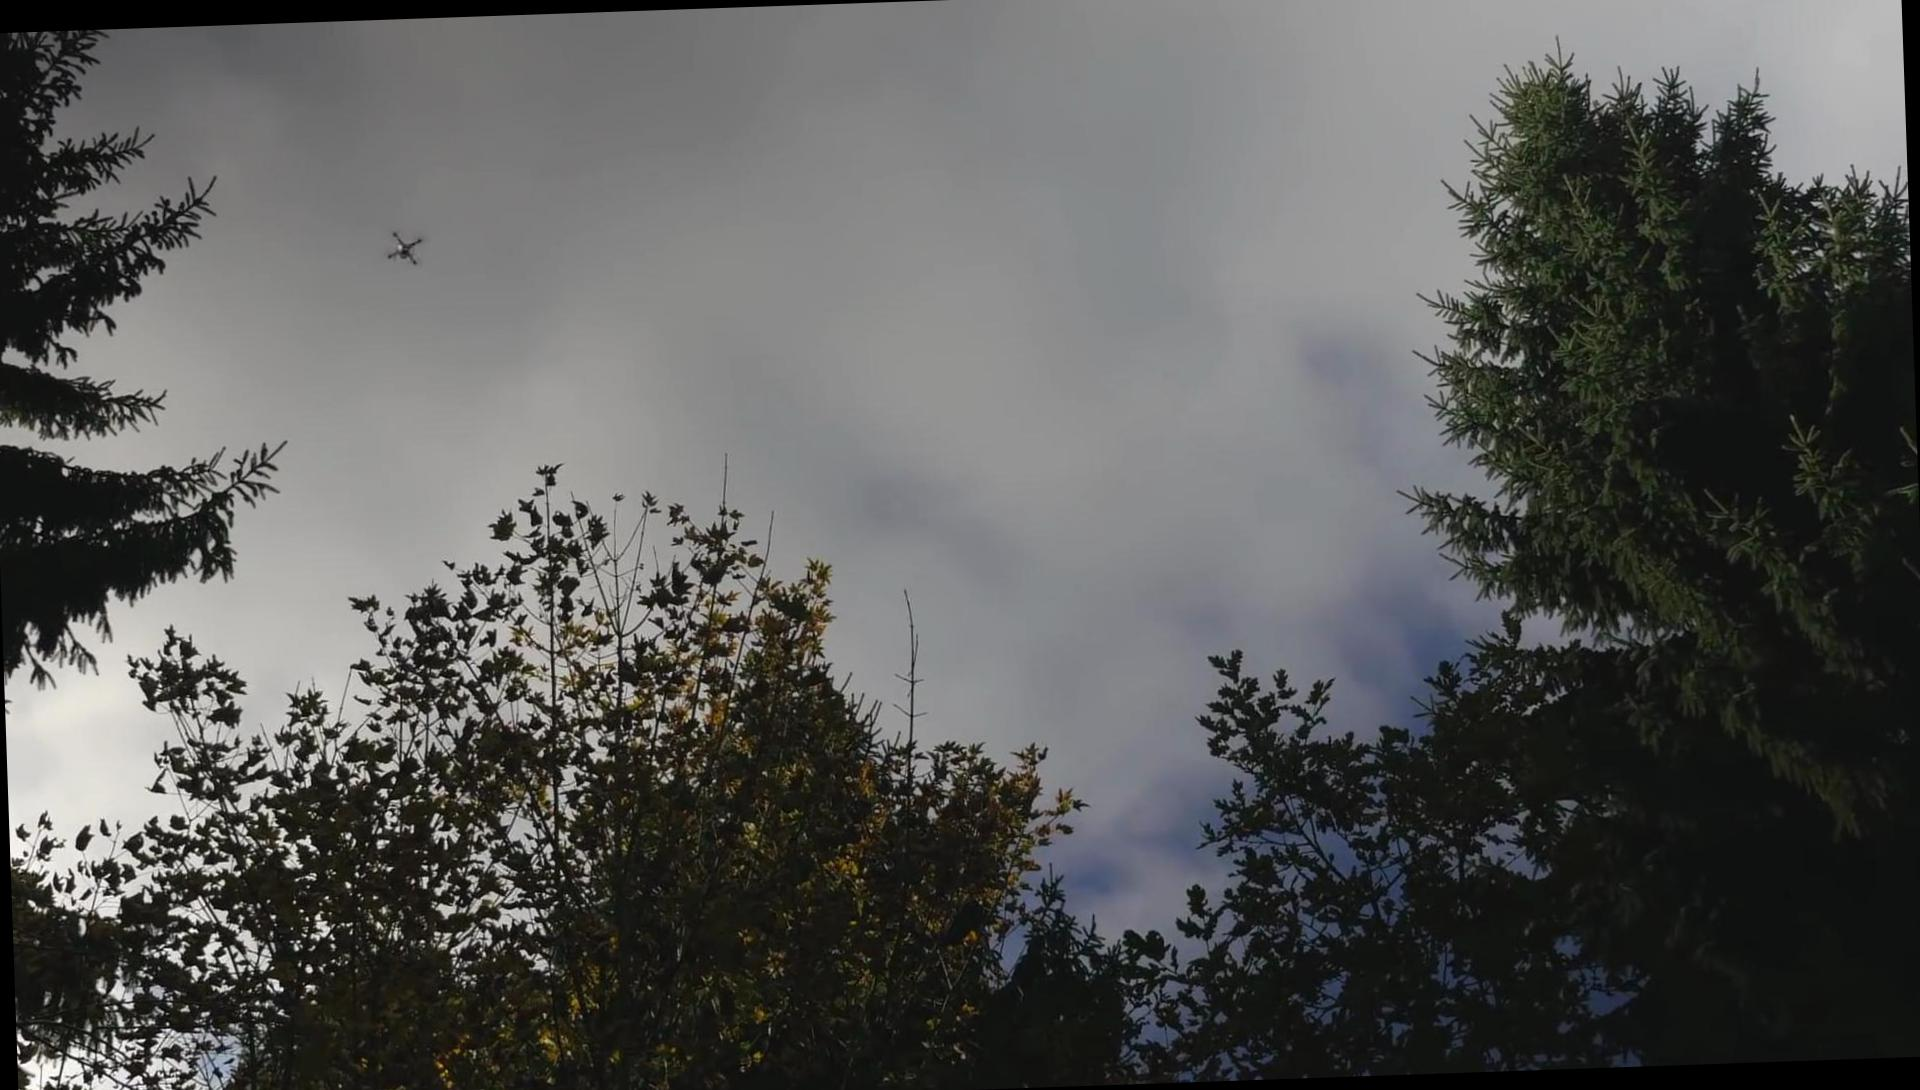drone: (382, 228, 425, 268)
